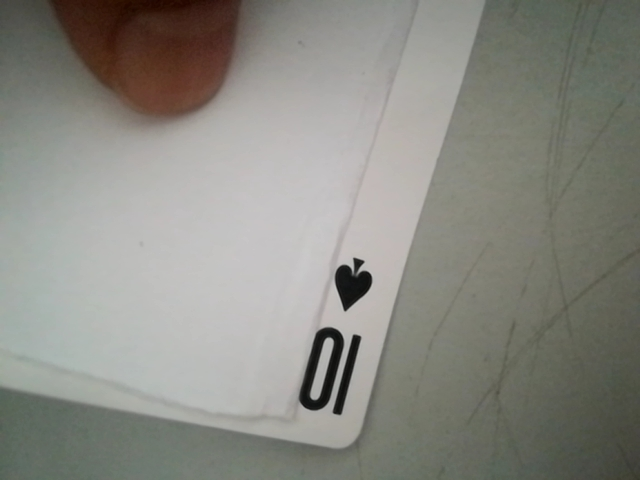ht 10: (286, 242, 388, 437)
